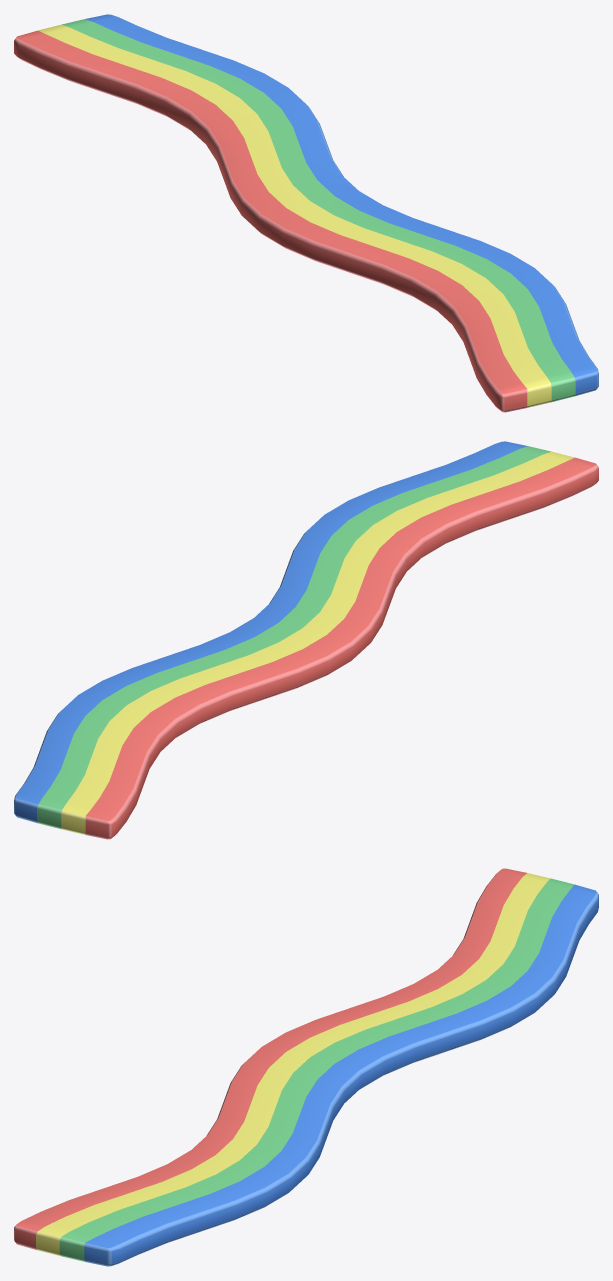
File: marmalade_003.glb
3 renders of one model, top to bottom at view 1: azimuth 30°, elevation 25°; view 2: azimuth 150°, elevation 25°; view 3: azimuth 330°, elevation 25°, orthographic.
Visible parts, largest first — view 1: marmalade_003; view 2: marmalade_003; view 3: marmalade_003.
Part boxes in pixels (x1,y1,x2,y2): marmalade_003: [14, 14, 598, 412]; marmalade_003: [14, 441, 598, 839]; marmalade_003: [14, 868, 598, 1266].
Size of the model in its own units: 4.09 by 0.563 by 22.16.
Materials: 1 (1 with a texture image).
